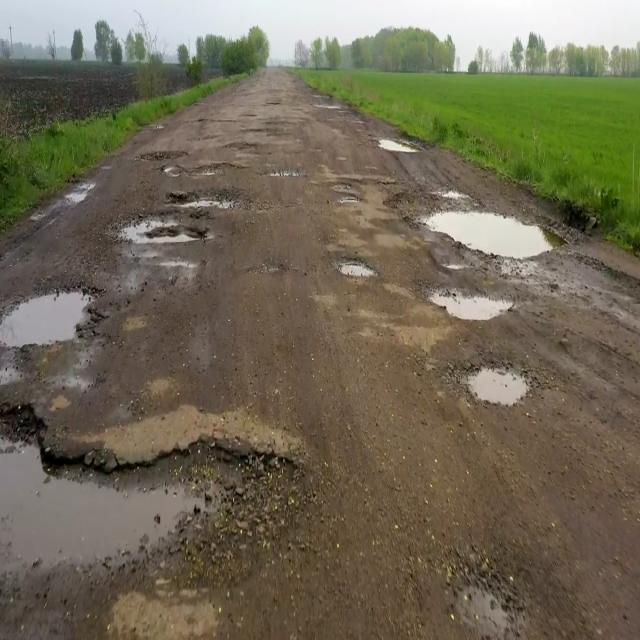road-pothole: (1, 418, 297, 575), (413, 208, 561, 267), (1, 288, 99, 348), (462, 365, 528, 421), (124, 213, 215, 239), (433, 291, 511, 321), (55, 177, 95, 211), (178, 194, 244, 212), (336, 259, 373, 279), (376, 140, 417, 152)
